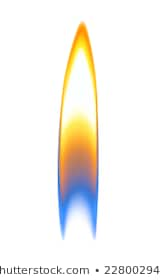Fire: (58, 21, 101, 229)
